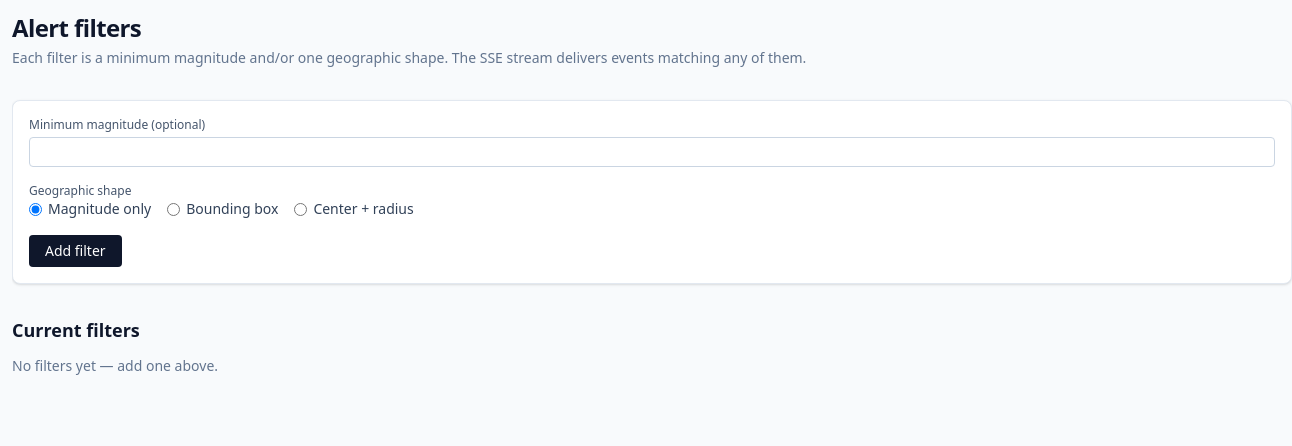
it: AlertConfig › surfaces a backend 422 from create
Type "4" into the number field labelled "Minimum magnitude (optional)".
click(652, 152); type("4")  # box [29, 137, 1275, 167]
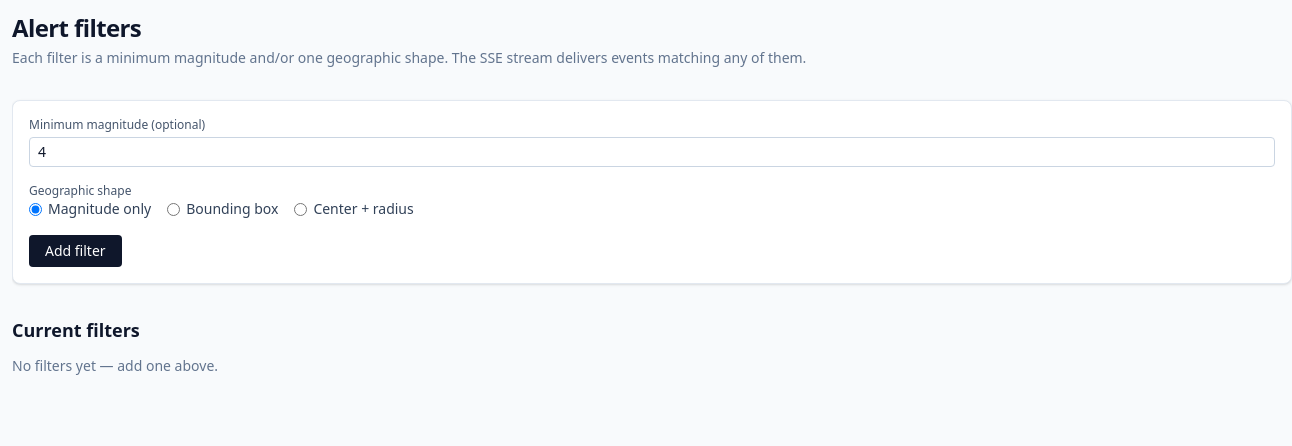
Click the button "Add filter".
click(75, 251)  # box [29, 235, 122, 267]
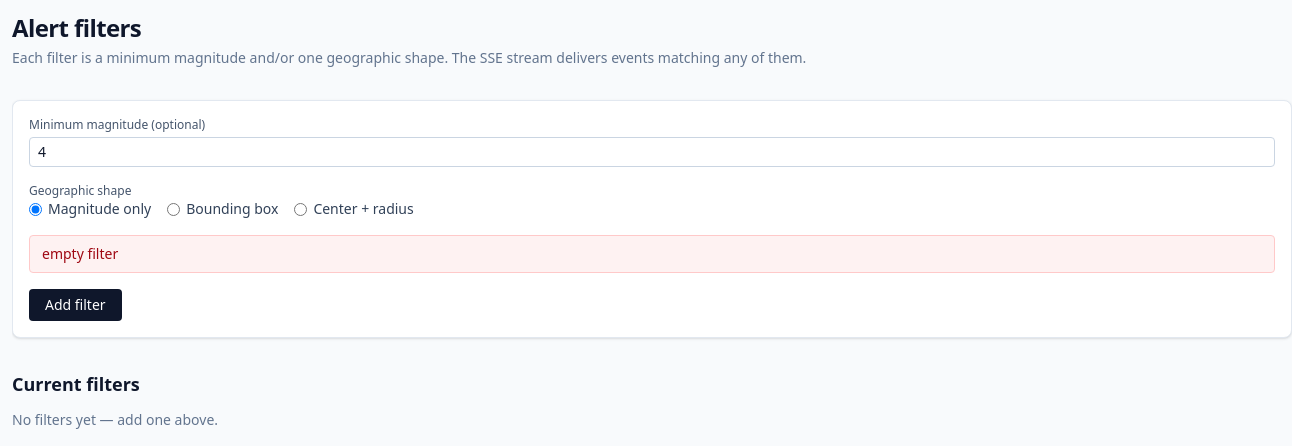
Result: the message reads "empty filter" at [42, 244, 118, 263]
